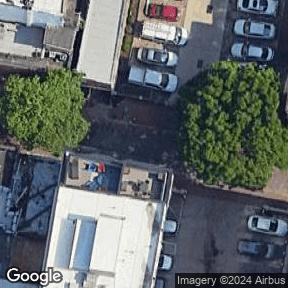vegetation: (181, 63, 288, 188), (0, 64, 94, 164)
